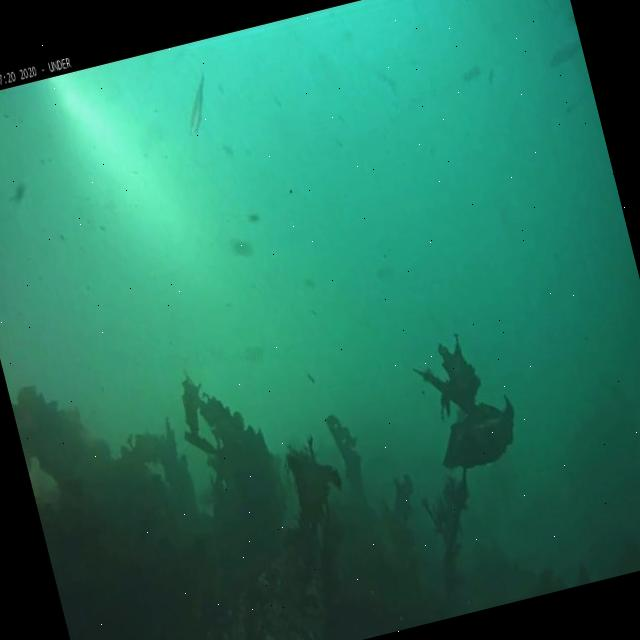fish: (172, 69, 218, 140), (543, 36, 583, 70)
